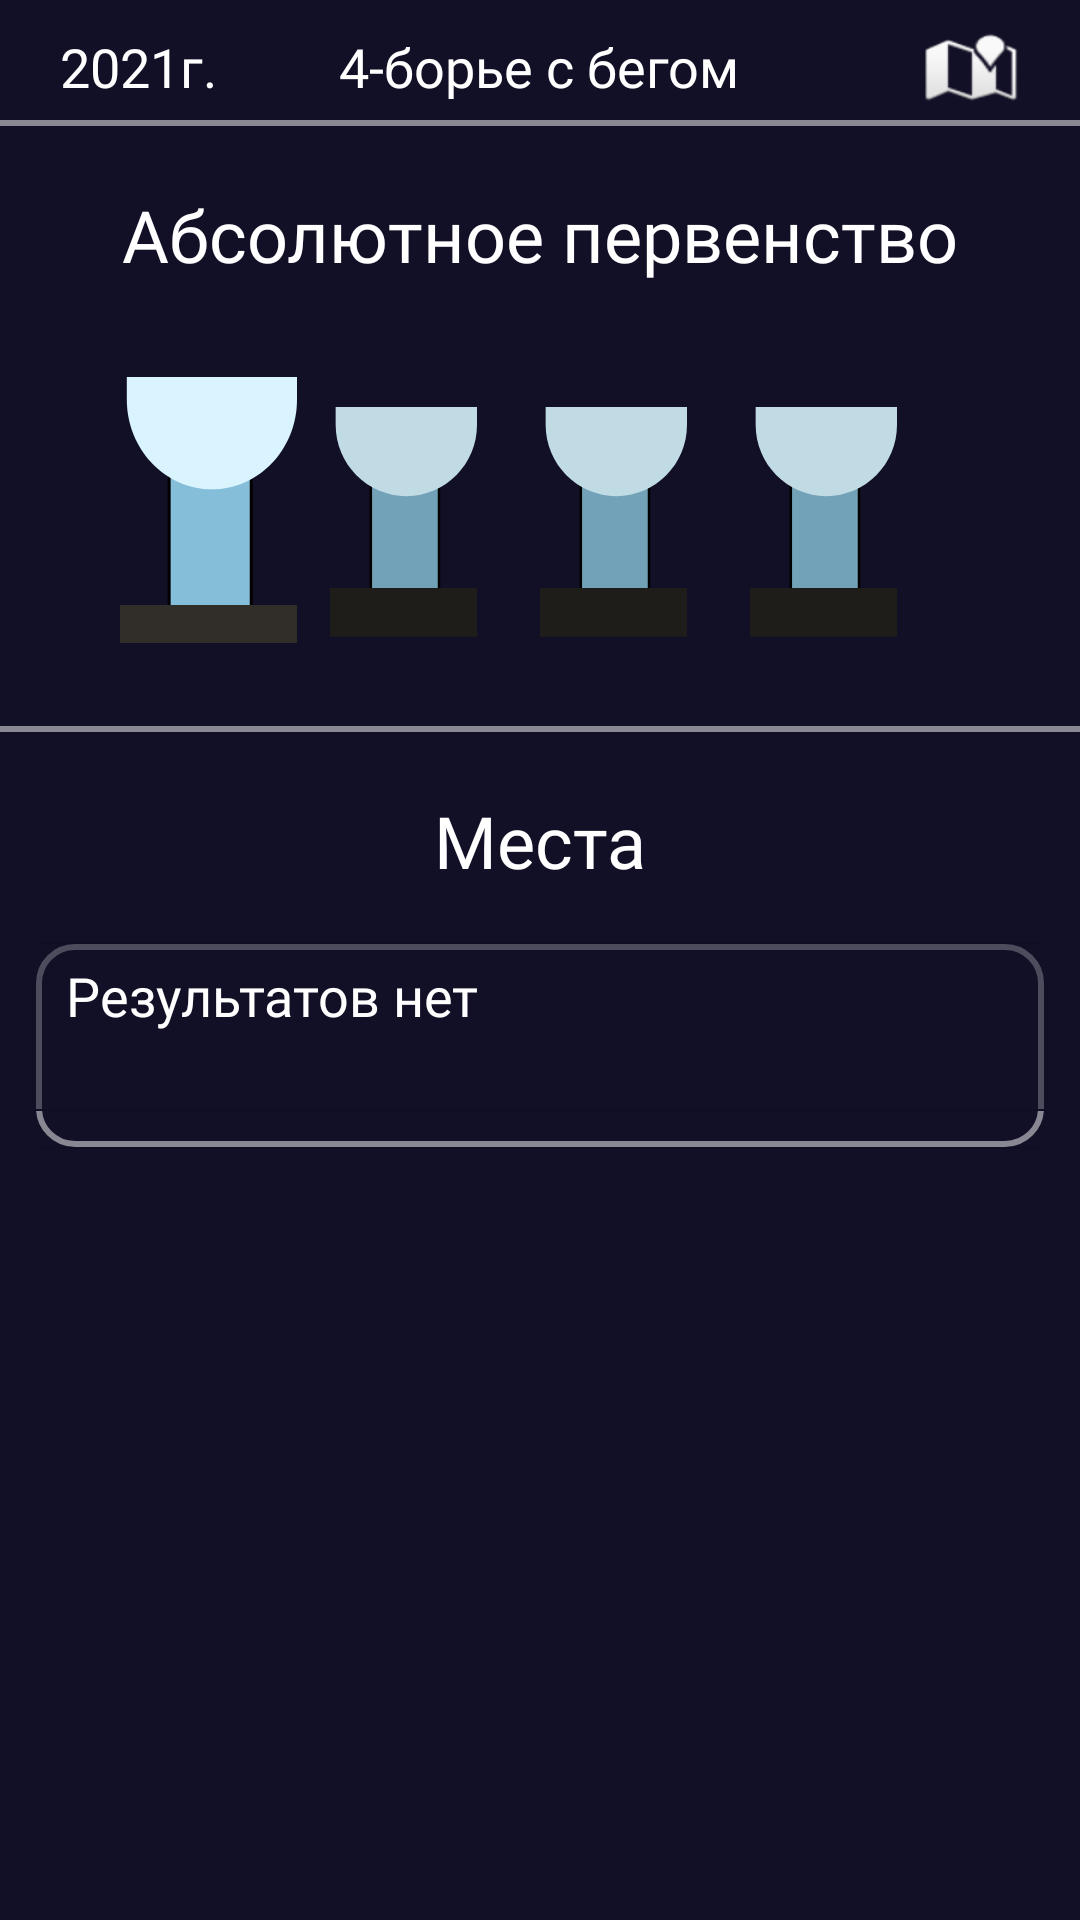

Named icons in this screenshot (1080*1920) and their centers, point (x, y):
absolute championship: point (208, 510), point (406, 497), point (616, 497), point (826, 497)
map: point (971, 67)
